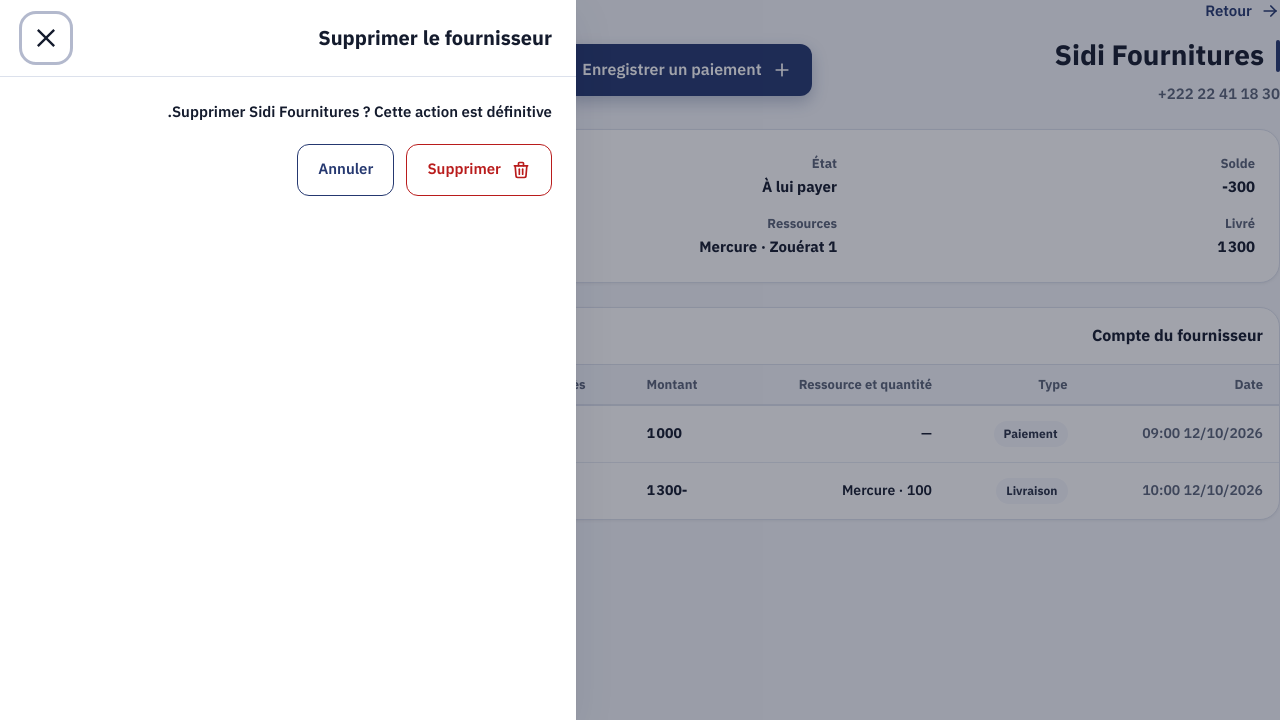
Test: SupplierScreen › shows why the backend refuses to delete a supplier
The image size is (1280, 720).
Click the button "Supprimer" at [479, 170], box [406, 144, 552, 196]
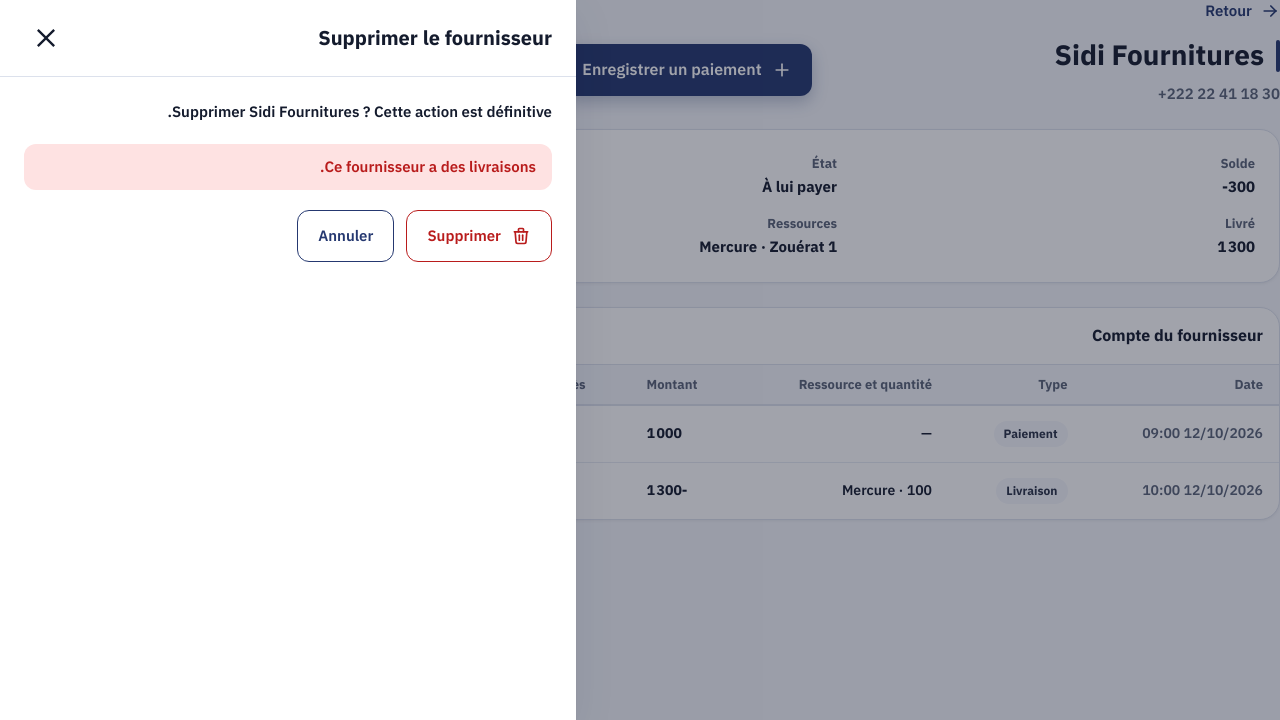
Expected: the text "Ce fournisseur a des livraisons." is shown, [24, 144, 552, 190]
